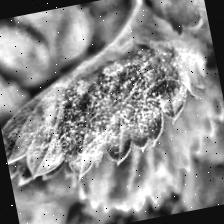Powdery Mildew Leaf: (0, 0, 224, 194)
